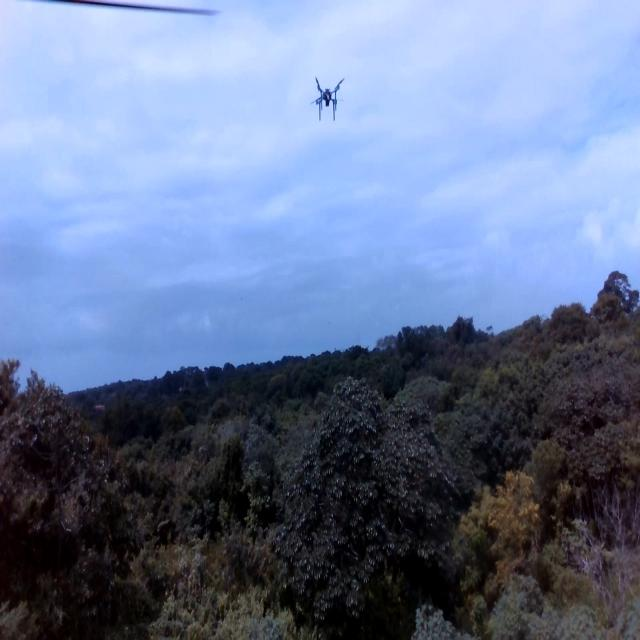-uav-: (303, 68, 350, 131)
